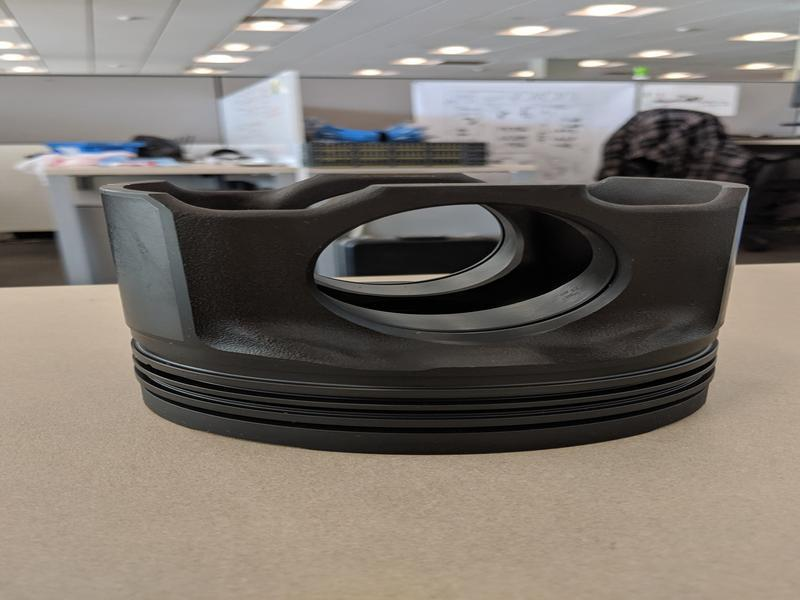piston: (99, 169, 755, 458)
